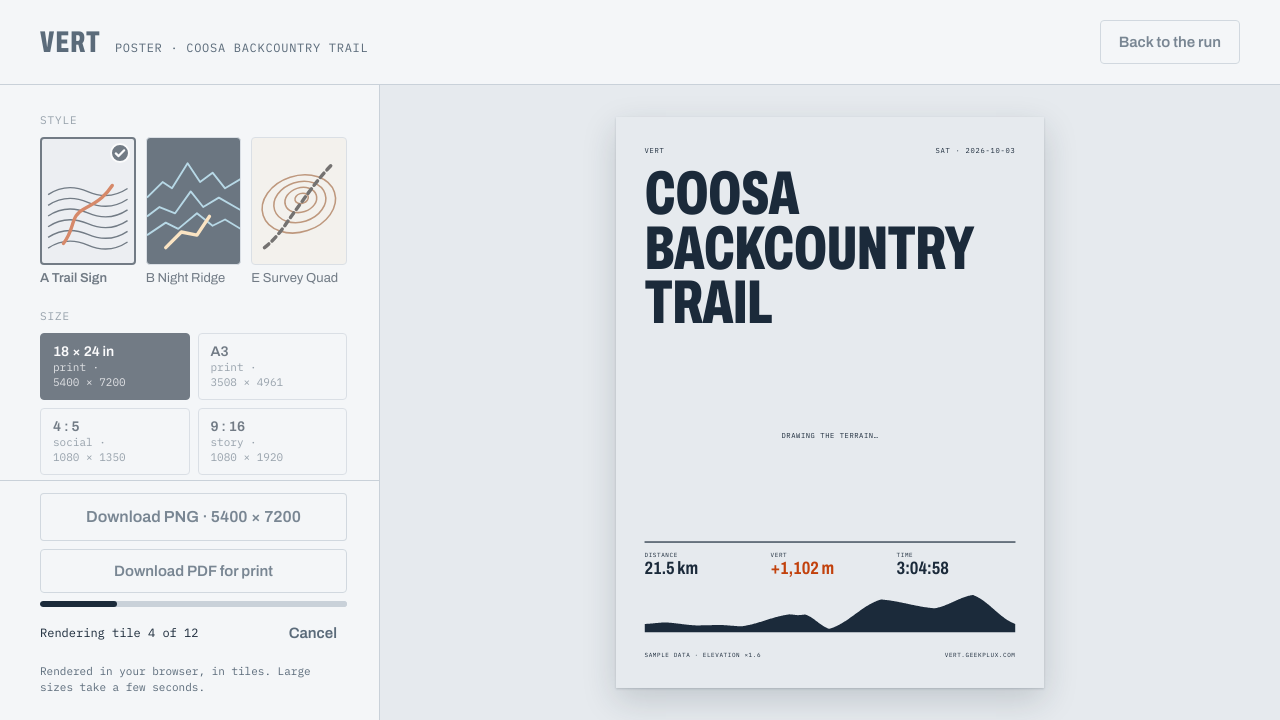
Test: Exporting overlay › shows a stored exporting state (stories) without starting an export
The image size is (1280, 720).
Expected: the text "Rendering tile 4 of 12" is shown, [40,624,198,642]
Step 1. Click the button "Cancel" → click(313, 633), box [279,611,347,655]
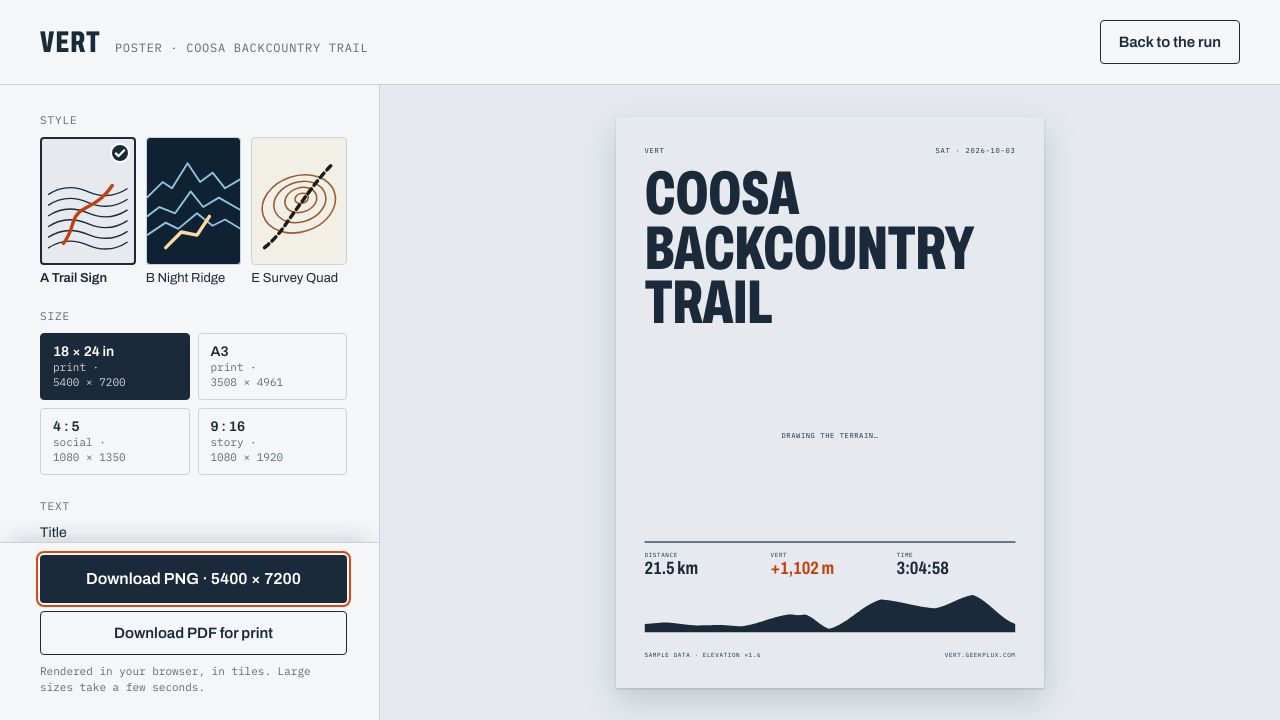
Result: the progress indicator is gone
